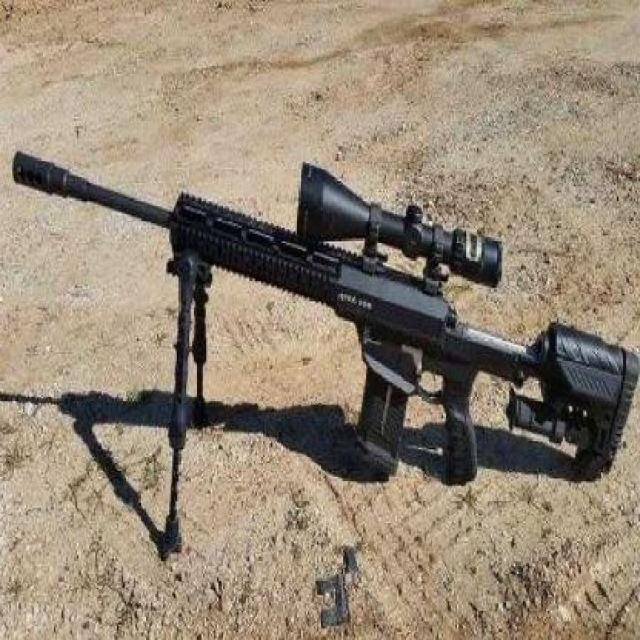weapon: (12, 148, 640, 560)
